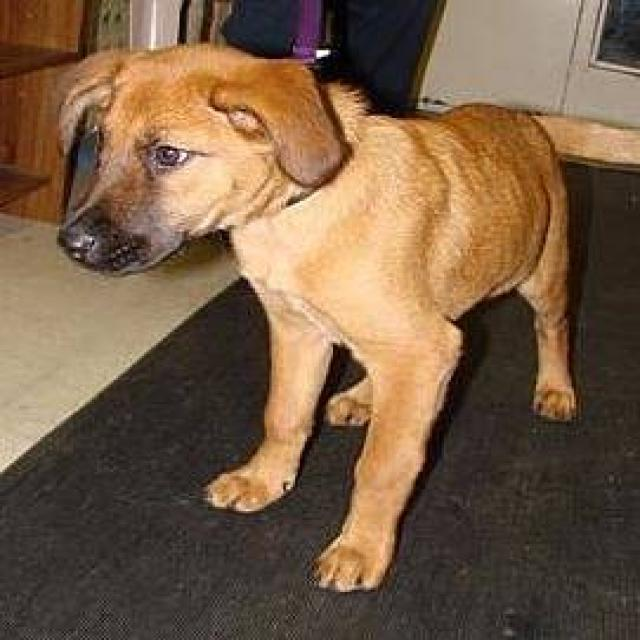dog: (52, 39, 638, 594)
